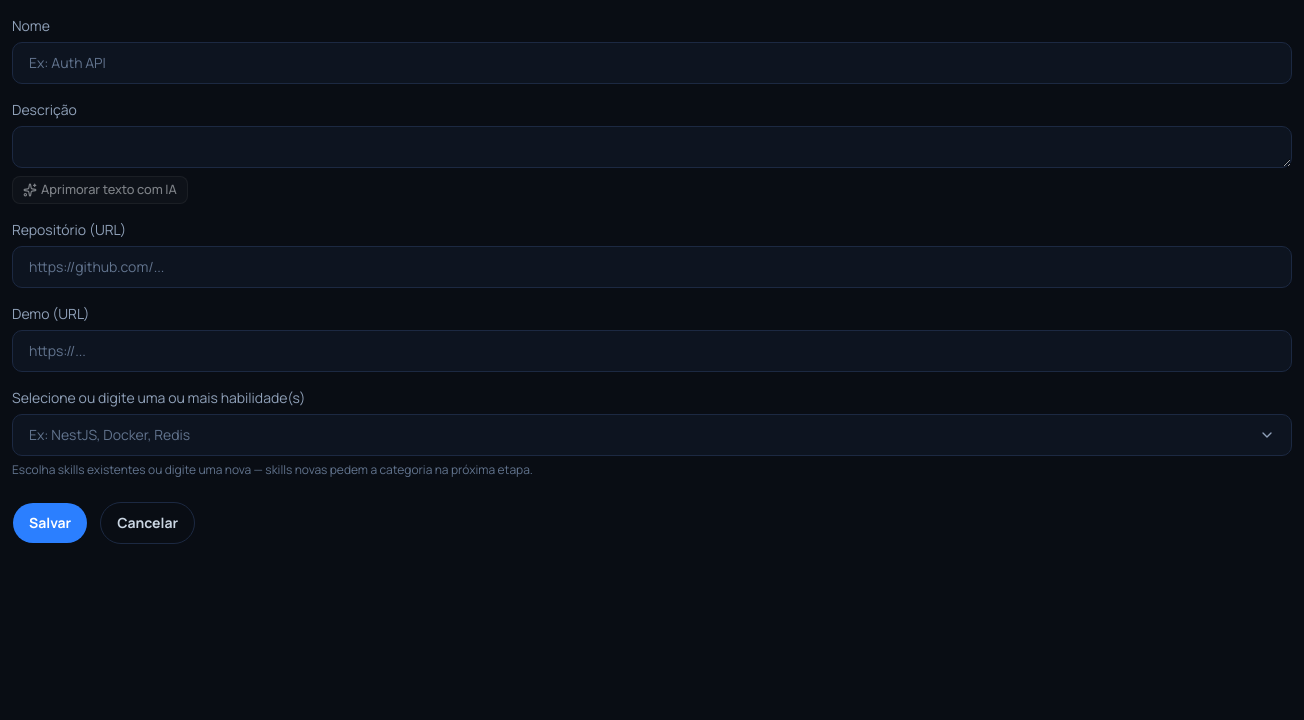
Test: ProjectForm › shows validation errors without submitting
Step 1. Click the button "Salvar" → (50, 523), box x1=12 y1=502 x2=88 y2=544
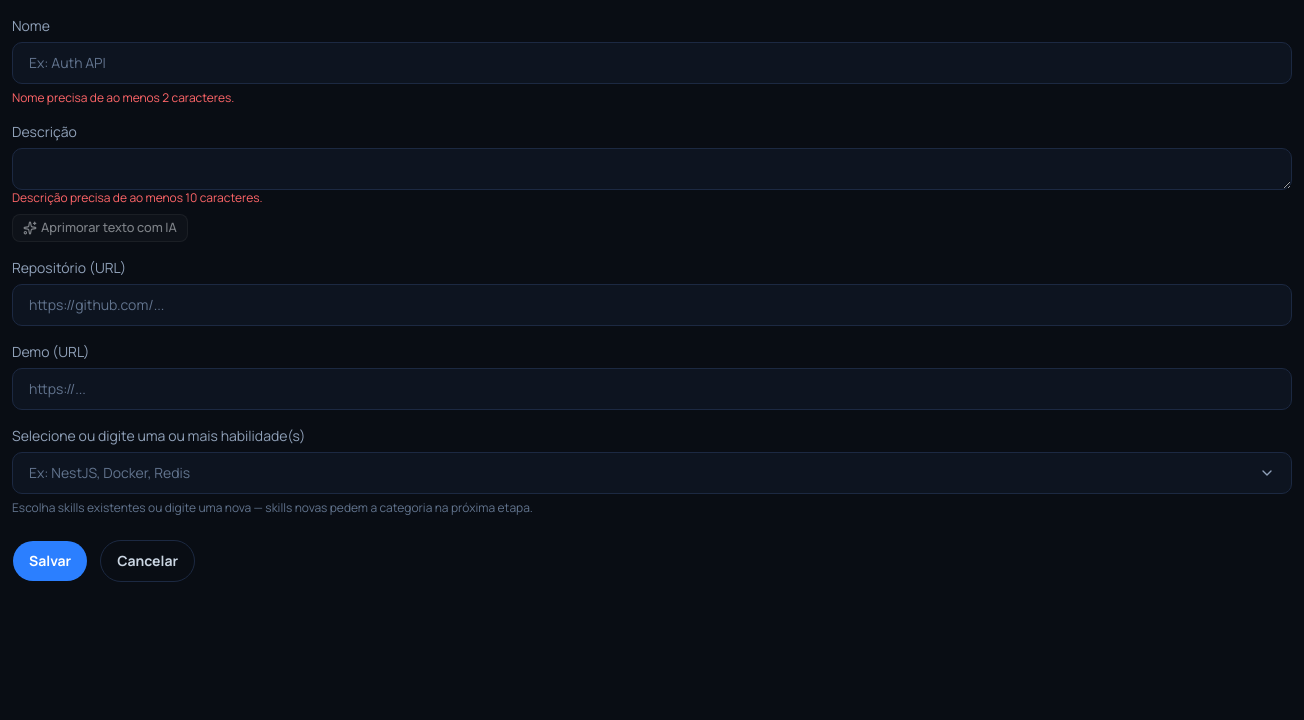
Result: the text "Nome precisa de ao menos 2 caracteres." is shown at x1=12 y1=89 x2=234 y2=106
